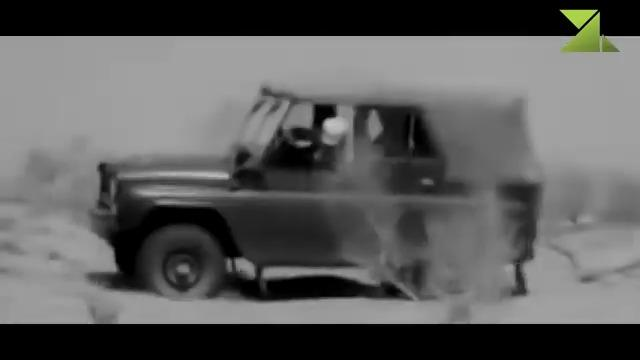MIL_HMMWV: (86, 83, 545, 300)
